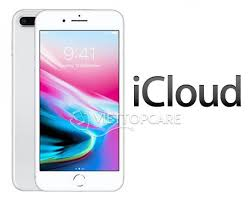iphone: (33, 8, 123, 194)
iphone8: (34, 6, 124, 192)
